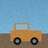vehicle: (10, 23, 41, 45)
